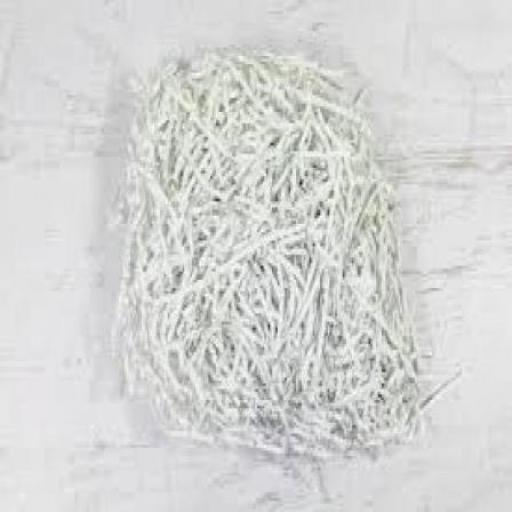paper: (90, 38, 476, 487)
